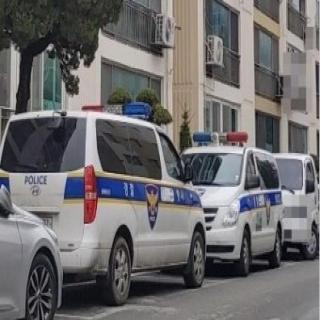Police_car: (0, 88, 208, 301), (168, 127, 284, 274)
